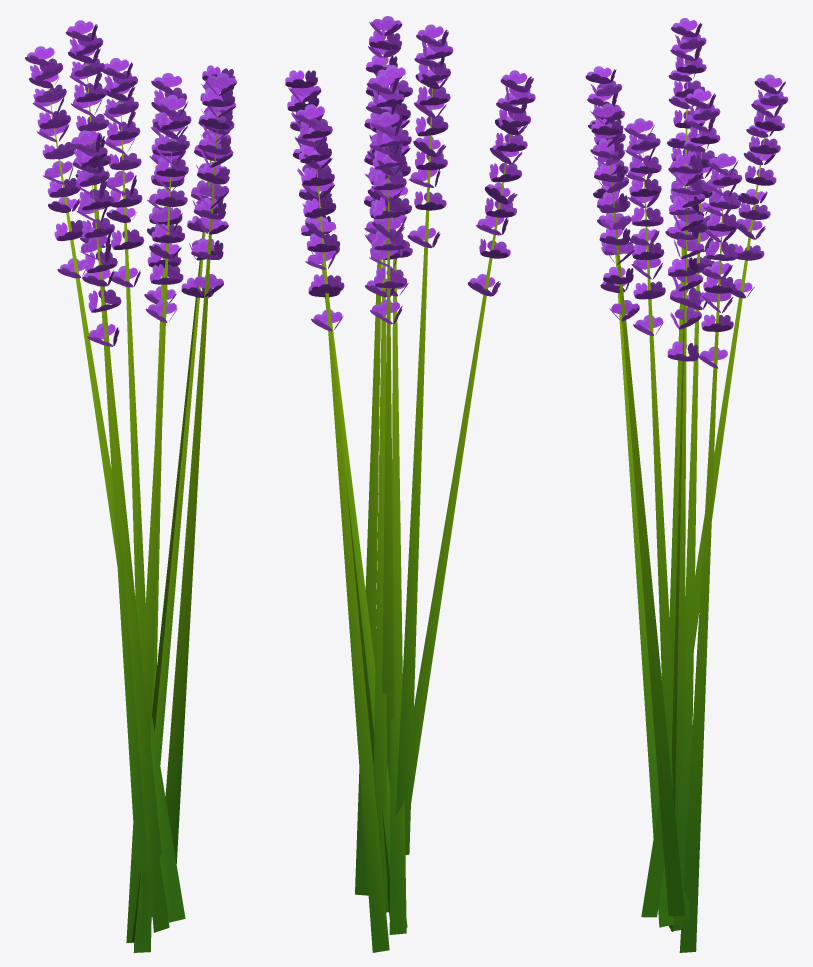
Rendered from planta.glb.
The picture shows the model from 3 angles, left to right: view 1: azimuth 30°, elevation 25°; view 2: azimuth 150°, elevation 25°; view 3: azimuth 270°, elevation 25°; orthographic projection. The views are drawn at different scales.
Parts seen in each view (by area): view 1: Lavender; view 2: Lavender; view 3: Lavender.
Part boxes in pixels (x1,y1,x2,y2): Lavender: (25,20,236,952); Lavender: (285,16,535,952); Lavender: (585,18,788,952).
Bounding box in the file's own units: 0.1418 × 0.5812 × 0.1302.
1 material, 1 textured.
